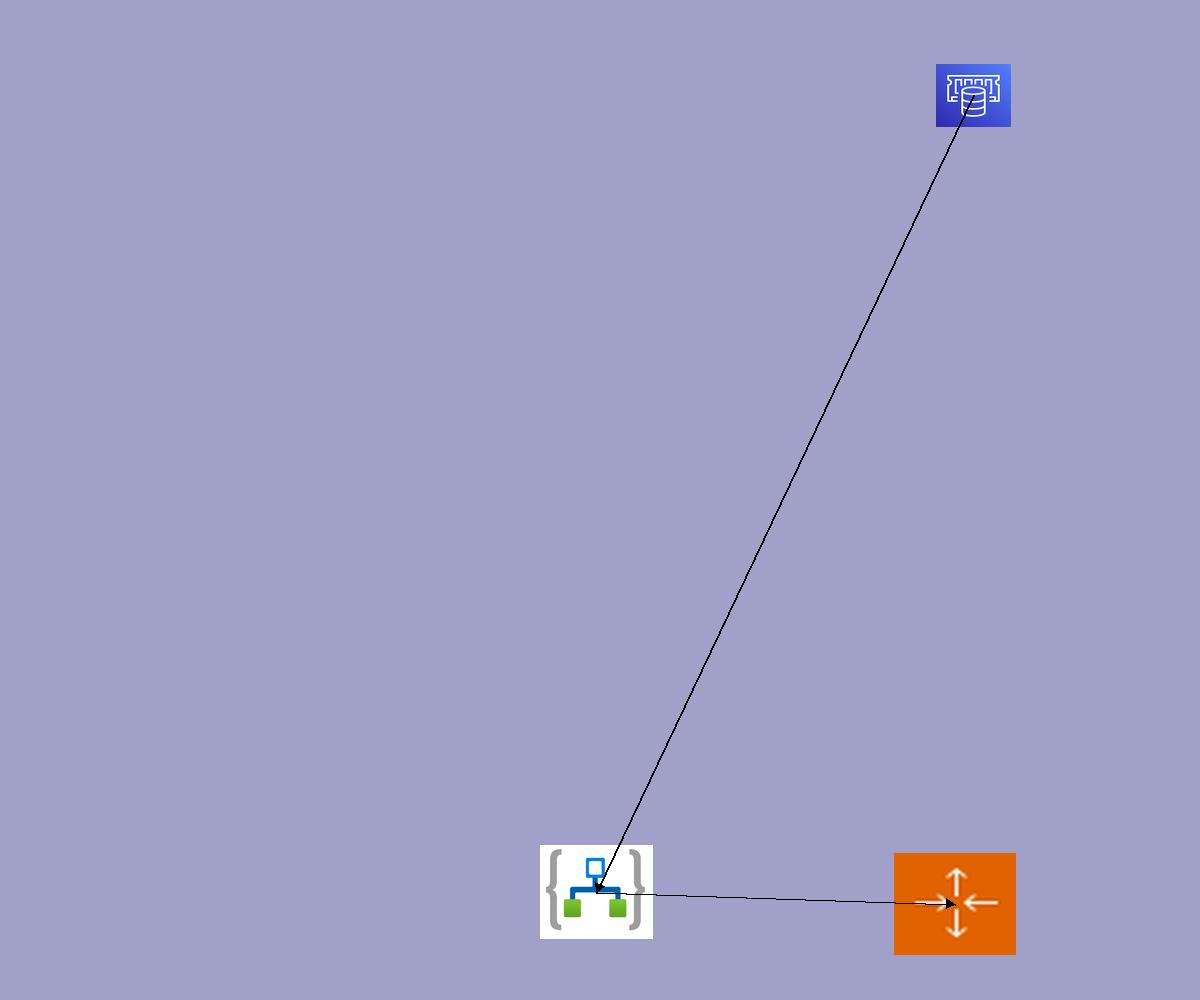AWS-ElastiCache: (936, 64, 1011, 127)
AWS-Scaling-group: (894, 853, 1016, 955)
Azure_integration-204-Logic-Apps: (540, 845, 653, 939)
